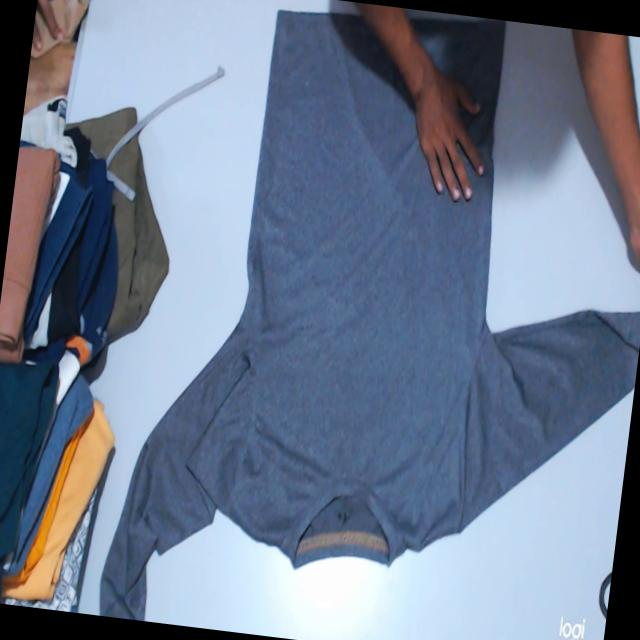new-garment: (101, 12, 640, 618)
